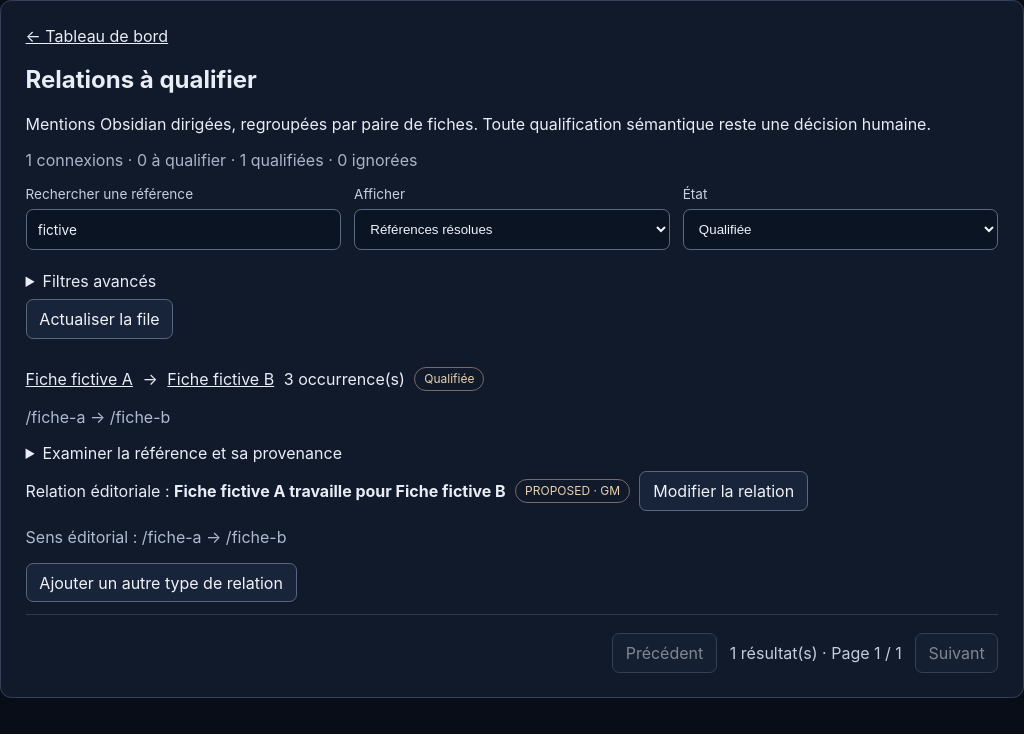
Test: correction depuis la file de qualification › refuse une relation devenue missing entre la file et l’ouverture
Click the button with aria-label "Modifier la relation :" at coordinates (724, 491), box [640, 471, 808, 511]
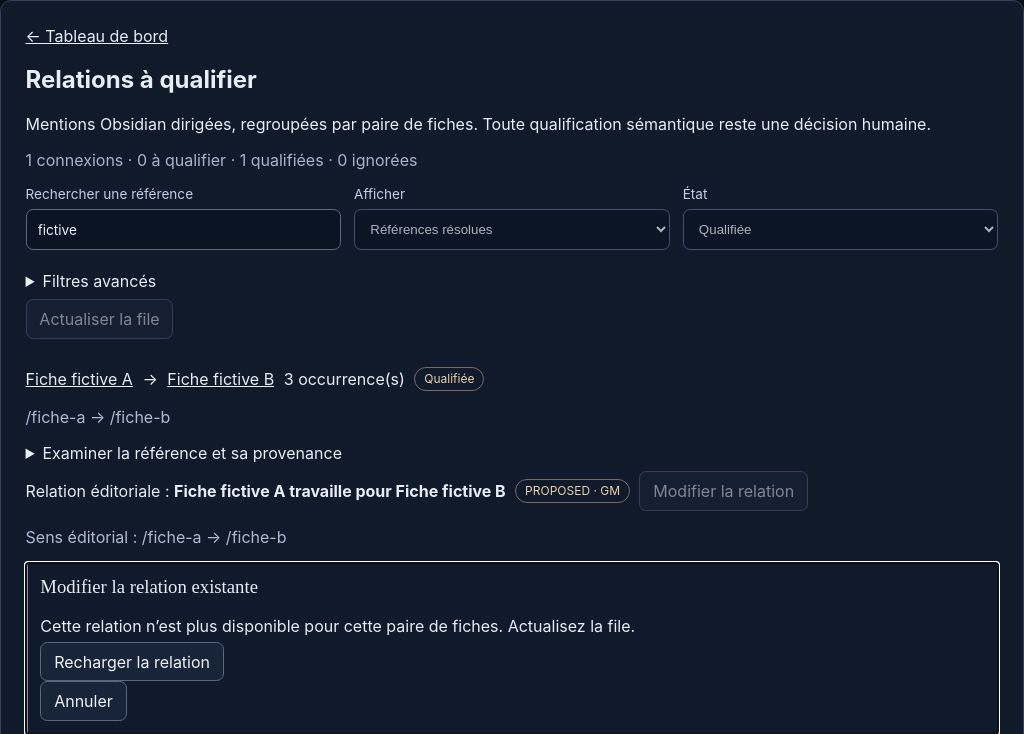
Expected: the message is shown, [40, 616, 635, 682]
